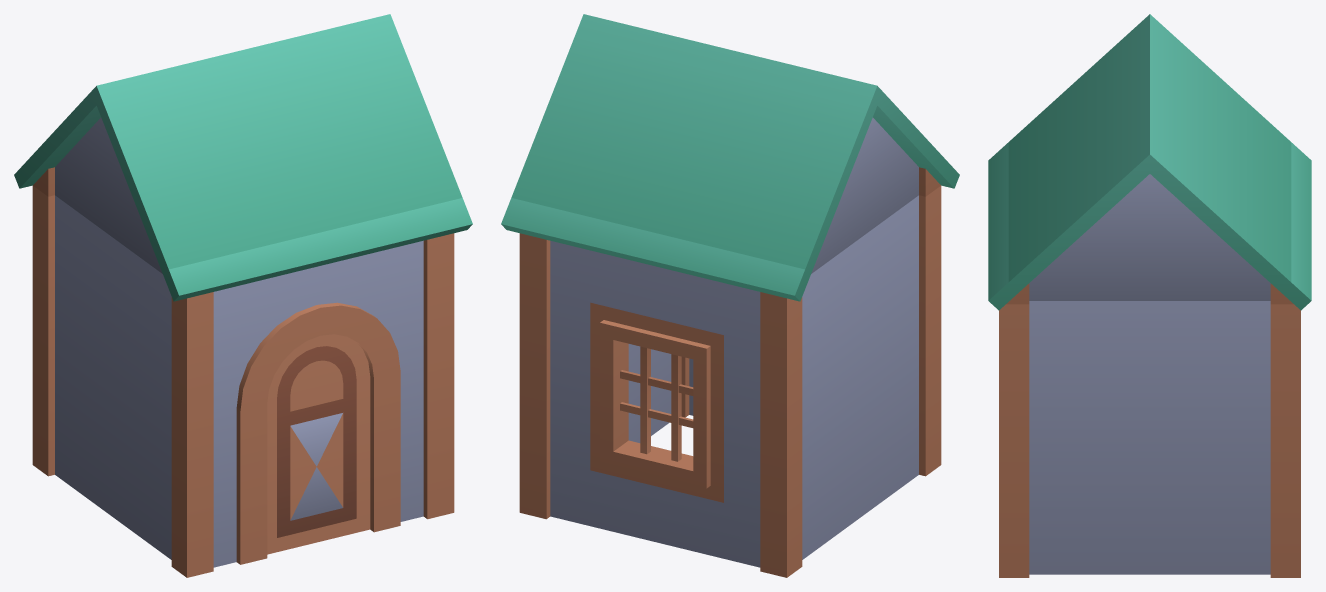
The model's file is house.glb.
3 renders of one model, left to right at view 1: azimuth 30°, elevation 25°; view 2: azimuth 150°, elevation 25°; view 3: azimuth 270°, elevation 25°, orthographic. The views are drawn at different scales.
Visible parts, largest first — view 1: house.001; view 2: house.001; view 3: house.001.
Boxes of the visible parts, x1,y1,x2,y2 form: house.001: (14,14,472,577); house.001: (501,14,959,577); house.001: (988,14,1311,577).
Size of the model in its own units: 1.1 by 1.57 by 1.07.
5 materials, 5 textured.
